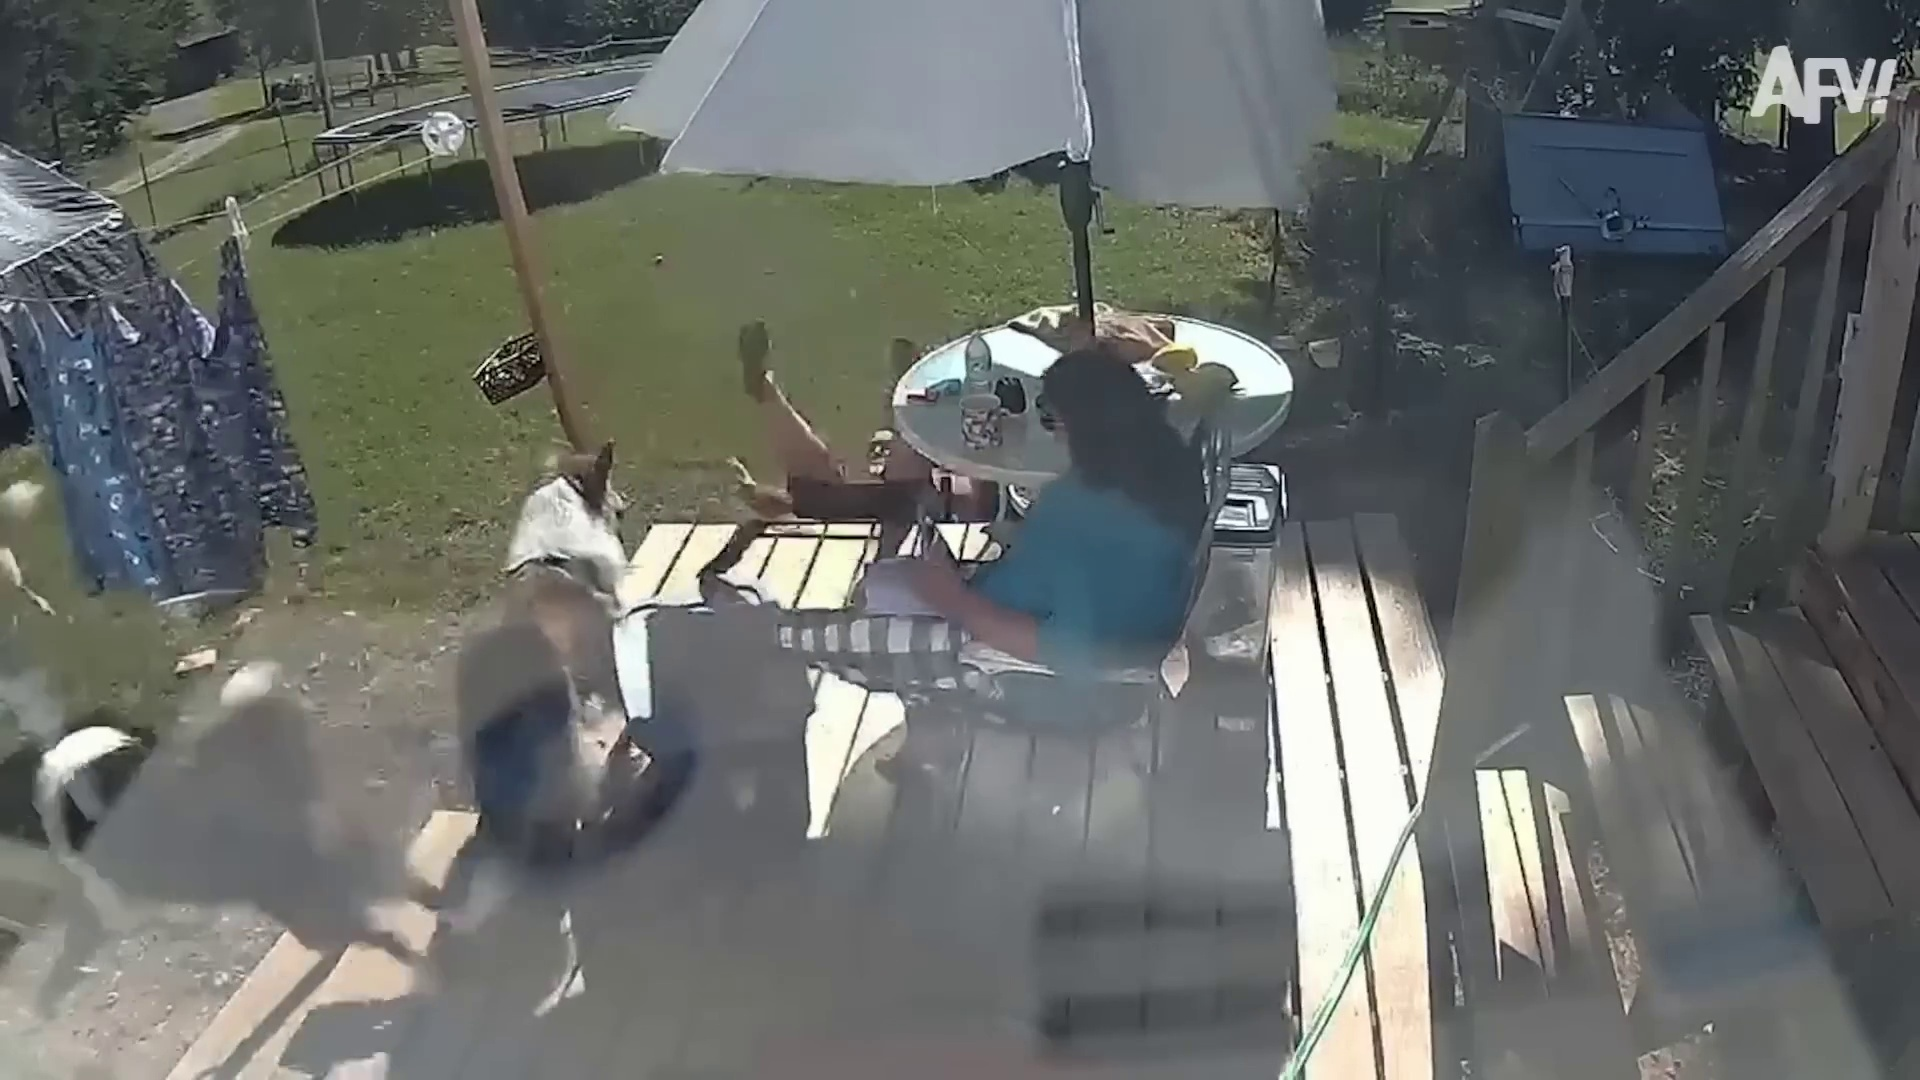fall: (698, 297, 978, 559)
